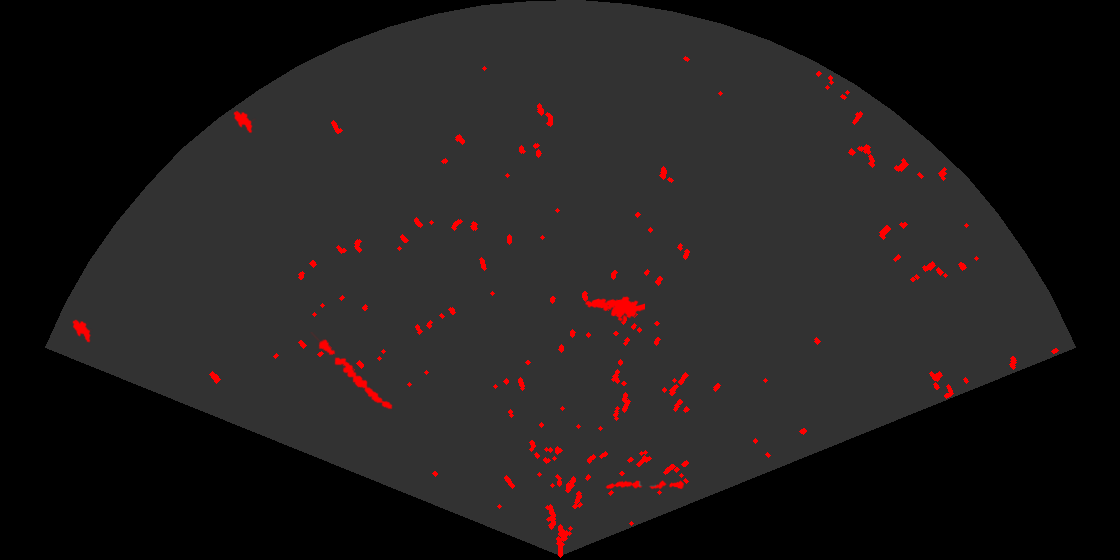AUV: (232, 109, 257, 135), (71, 318, 93, 344)
chain: (309, 332, 394, 411), (604, 479, 684, 491)
frogman: (583, 295, 645, 323)
